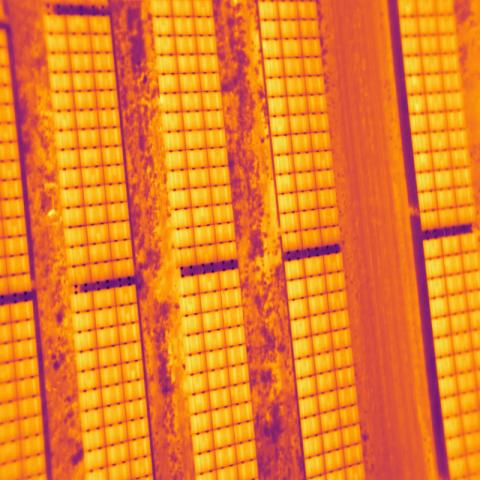fault: (159, 93, 183, 113)
